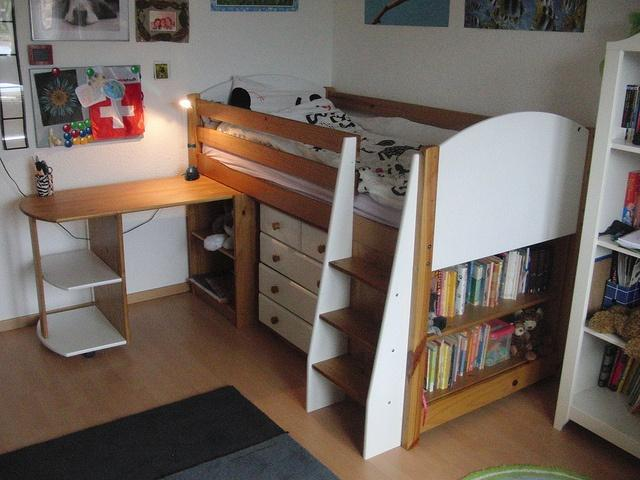Meja: (16, 169, 246, 243)
Rak: (551, 30, 639, 467), (402, 228, 582, 428)
